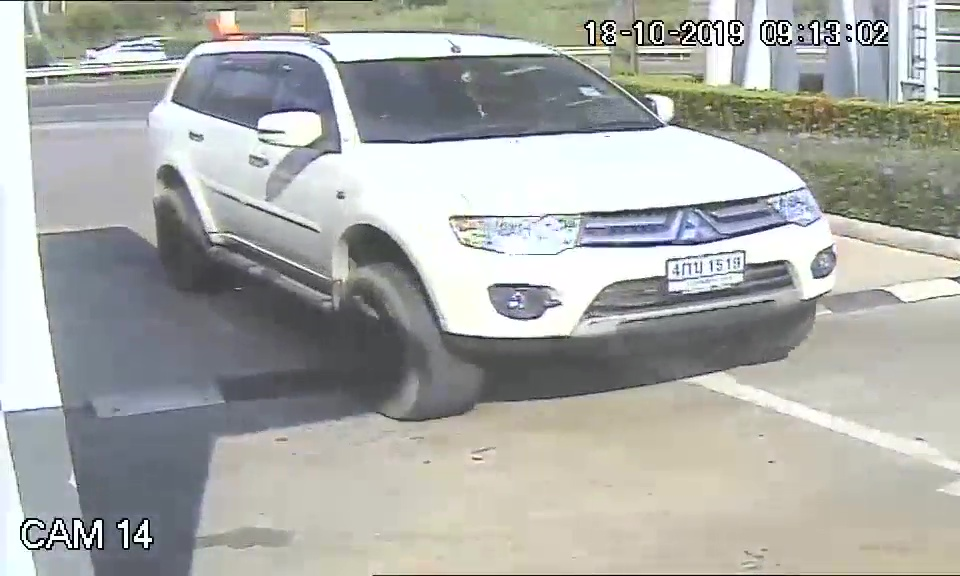pickup: (143, 26, 838, 422)
